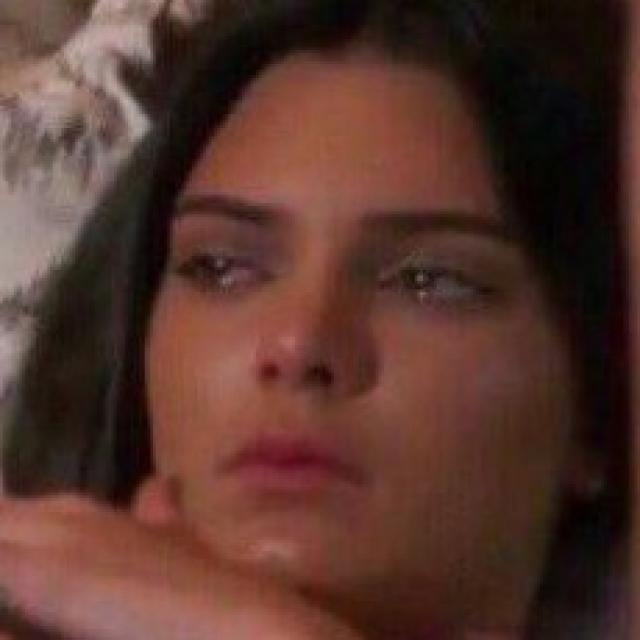Depress: (136, 46, 570, 620)
